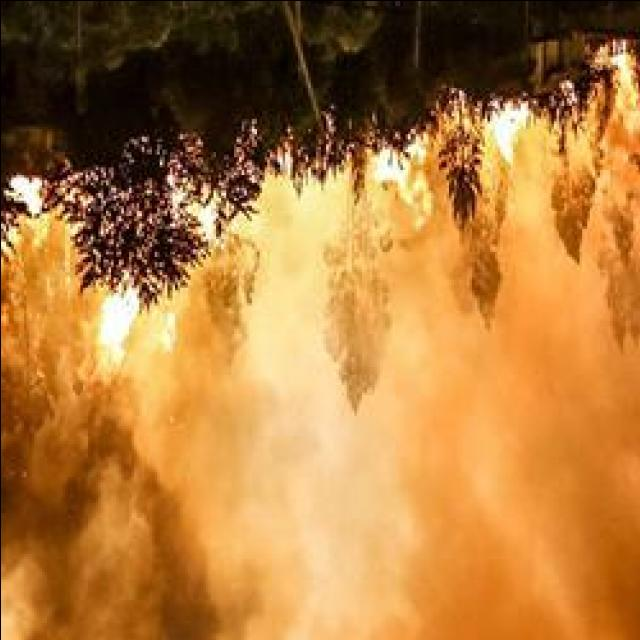fire: (375, 137, 434, 204), (94, 288, 142, 364), (489, 104, 532, 160), (608, 53, 634, 85)
smoke: (0, 388, 162, 633), (245, 196, 383, 455), (102, 517, 285, 640), (557, 418, 640, 638), (400, 526, 552, 640)
